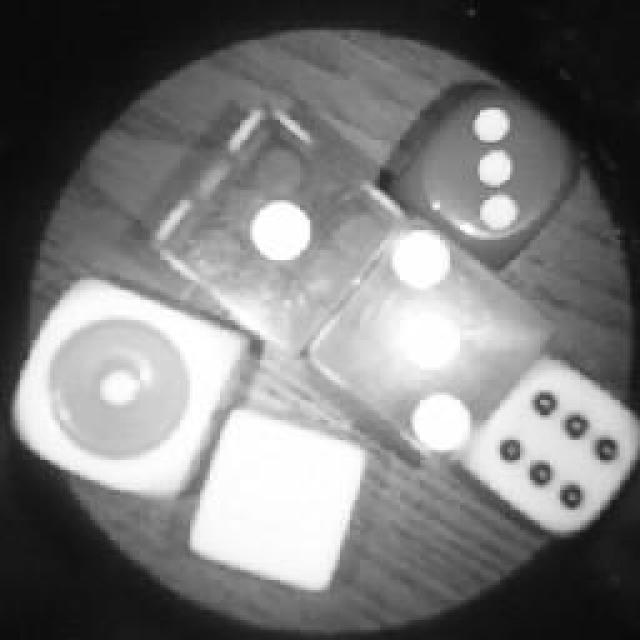dice_1: (148, 97, 408, 365), (2, 275, 258, 497)
dice_3: (302, 212, 558, 478), (390, 80, 582, 260)
dice_6: (460, 360, 640, 545)
